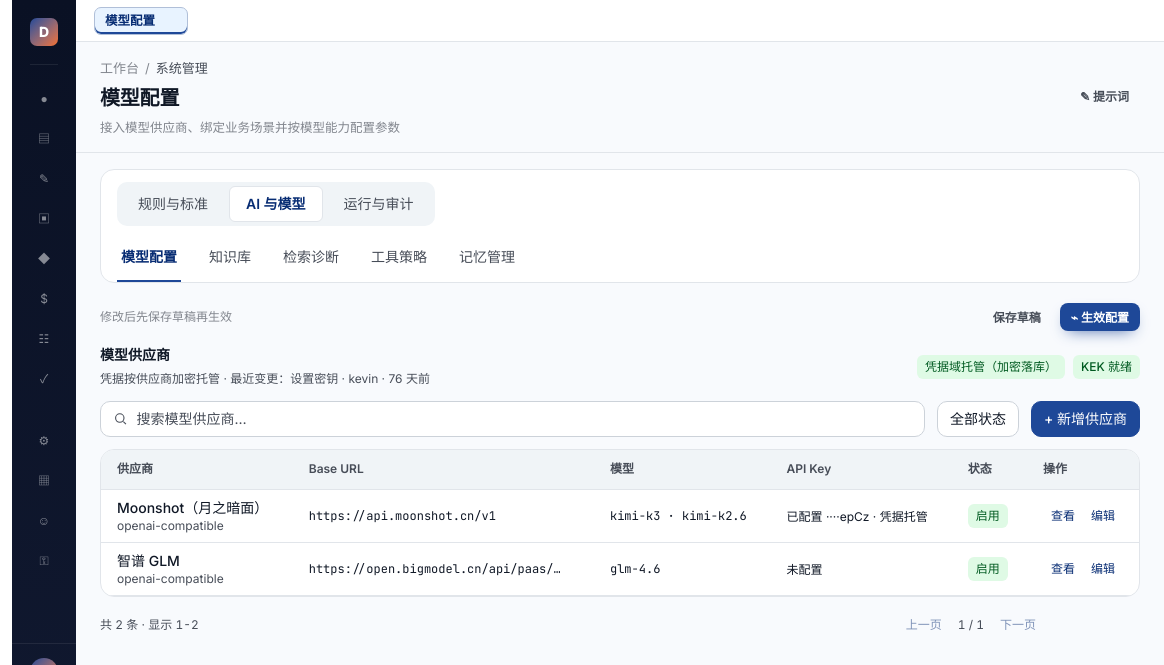
Scenario: ModelConfig · 保存/生效内联反馈 › 保存草稿后显示内联 role="status" 成功消息，不使用 alert
What coordinates should you click on to do the following:
click the button "保存草稿"
I would click on:
 (1017, 316)
Its box is [982,302,1052,330].
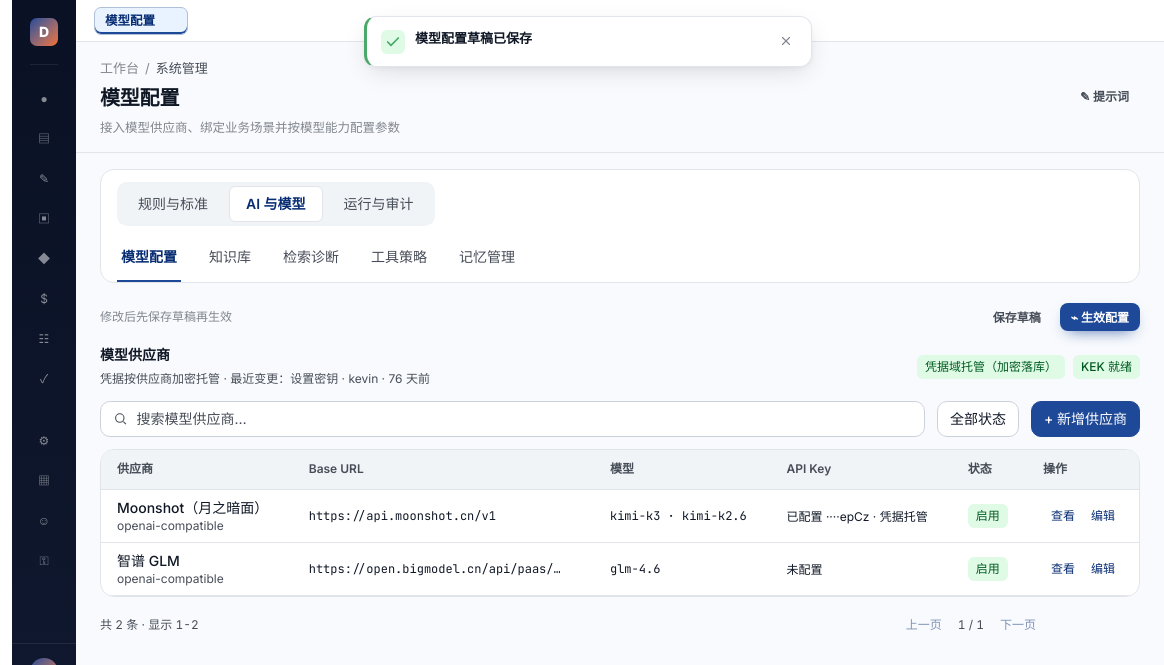
Expected: the message shows "草稿已保存", [415,30,532,46]
